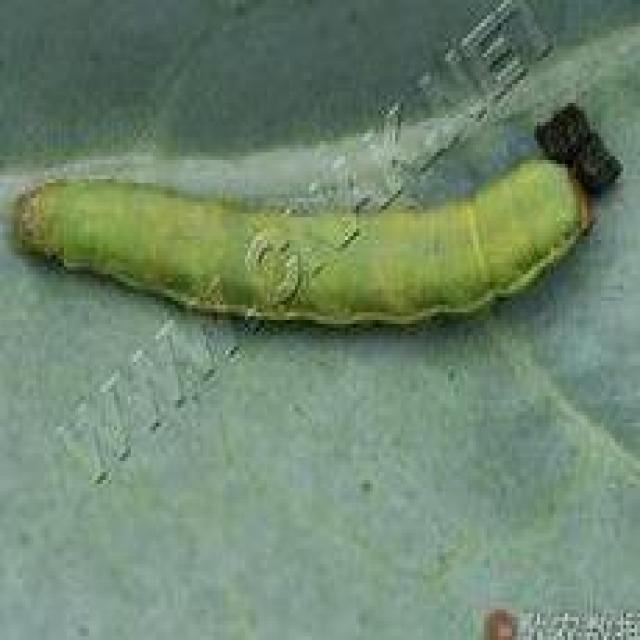BeetArmyWorm-Larva-: (14, 141, 596, 329)
